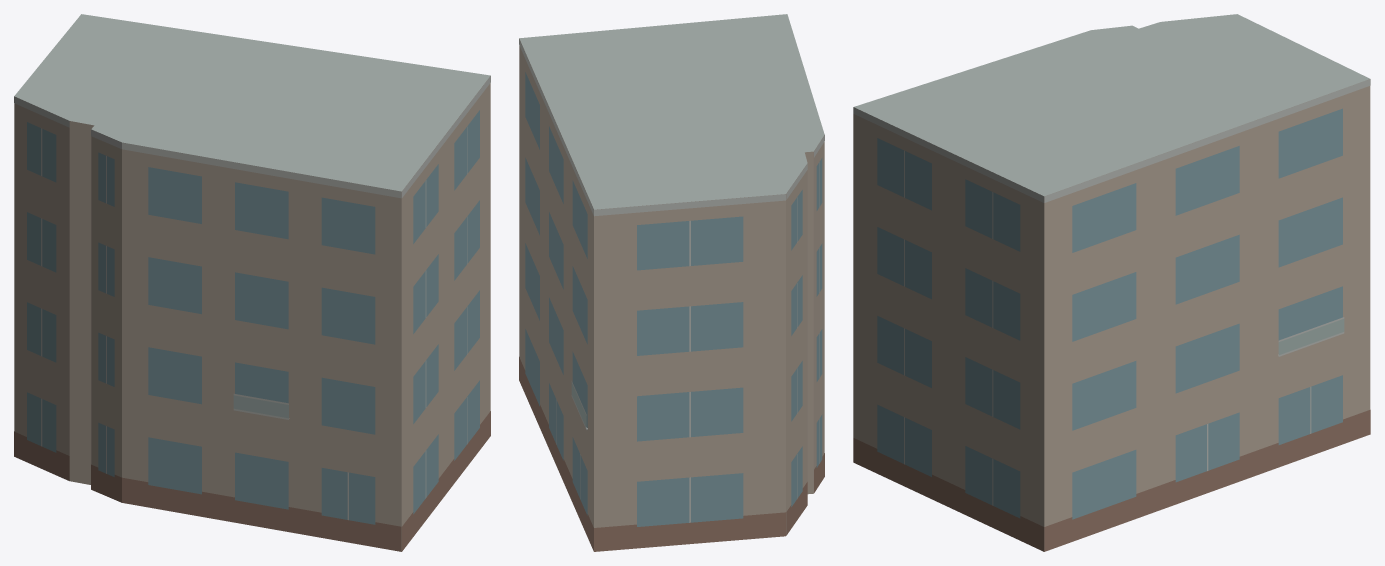
Rendered from survey-upis-32640243.glb.
3 renders of one model, left to right at view 1: azimuth 30°, elevation 25°; view 2: azimuth 150°, elevation 25°; view 3: azimuth 270°, elevation 25°, orthographic. The views are drawn at different scales.
Parts seen in each view (by area): view 1: survey-upis-32640243.tmp; view 2: survey-upis-32640243.tmp; view 3: survey-upis-32640243.tmp.
Boxes of the visible parts, box(x1,y1,x2,y2) form: survey-upis-32640243.tmp: box(14, 14, 490, 551); survey-upis-32640243.tmp: box(519, 14, 824, 551); survey-upis-32640243.tmp: box(853, 14, 1370, 551).
Size of the model in its own units: 14.09 by 12.8 by 16.88.
